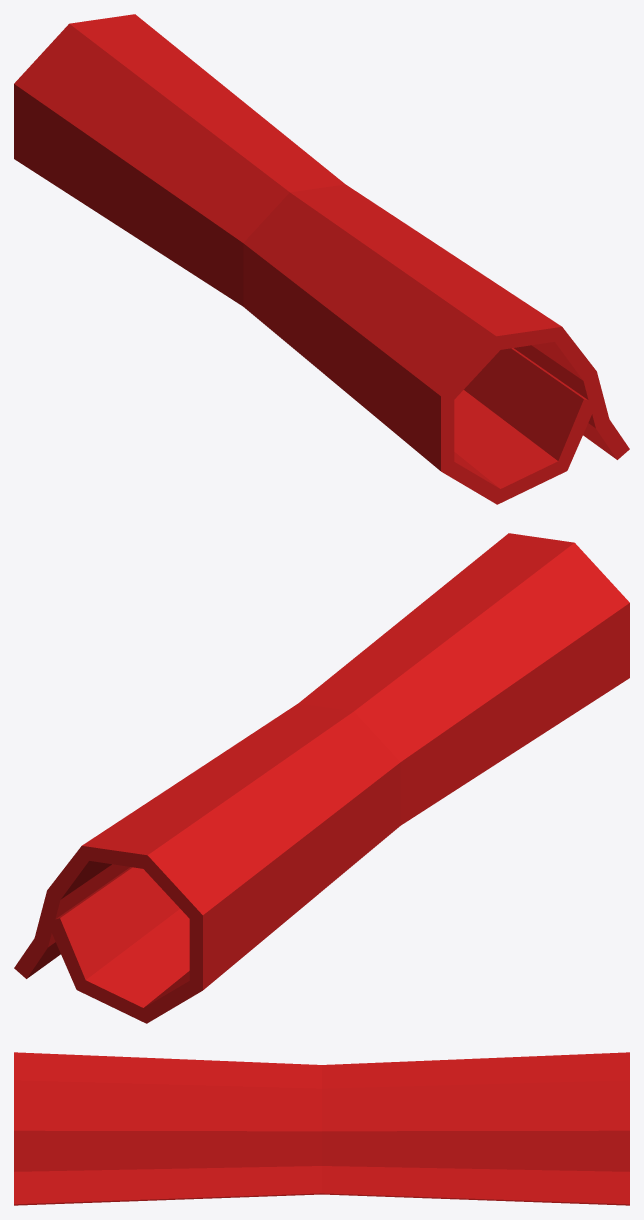
Rendered from SM_cloth_rolled.FBX.
3 renders of one model, top to bottom at view 1: azimuth 30°, elevation 25°; view 2: azimuth 150°, elevation 25°; view 3: azimuth 270°, elevation 25°, orthographic. The views are drawn at different scales.
Parts seen in each view (by area): view 1: Cylinder073; view 2: Cylinder073; view 3: Cylinder073.
Boxes of the visible parts, bbox=[...] form: Cylinder073: bbox=[14, 14, 629, 504]; Cylinder073: bbox=[14, 533, 629, 1023]; Cylinder073: bbox=[14, 1052, 629, 1205].
Size of the model in its own units: 25.27 by 21.58 by 98.98.
